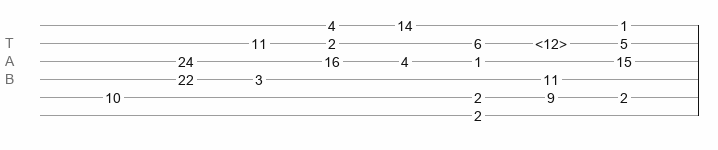1: (474, 54, 482, 64), (620, 18, 628, 28)
10: (105, 90, 121, 100)
11: (251, 36, 267, 46), (543, 72, 559, 82)
14: (397, 18, 413, 28)
15: (616, 54, 632, 64)
16: (324, 54, 340, 64)
2: (328, 36, 336, 46), (474, 90, 482, 100), (474, 108, 482, 118), (620, 90, 628, 100)
22: (178, 72, 194, 82)
24: (178, 54, 194, 64)
3: (255, 72, 263, 82)
4: (328, 18, 336, 28), (401, 54, 409, 64)
5: (620, 36, 628, 46)
6: (474, 36, 482, 46)
9: (547, 90, 555, 100)
harmonic: (535, 36, 567, 46)
